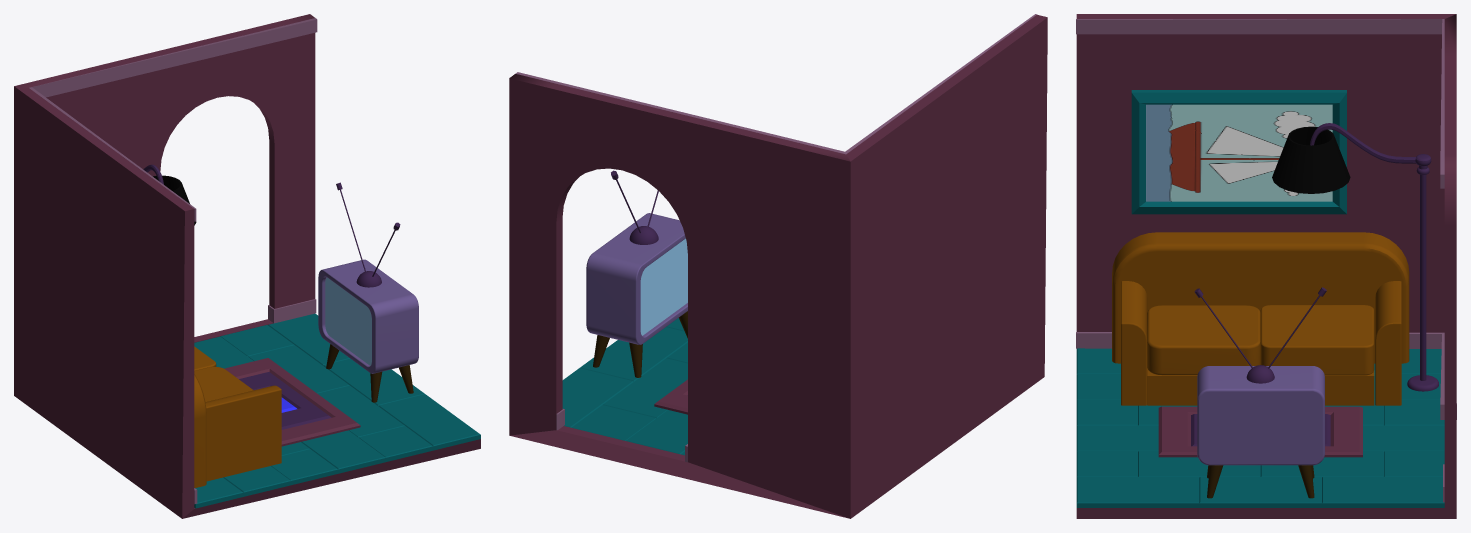
File: LivingRoom.obj
3 views of the same model, side by side, from view 1: azimuth 30°, elevation 25°; view 2: azimuth 150°, elevation 25°; view 3: azimuth 270°, elevation 25° (orthographic). The views are drawn at different scales.
Parts seen in each view (by area): view 1: LivingRoom, ArchwayWall, TvBox TvSet, Couch ArmRest01, WallBorder pCube2, Tile01 TileRow01, Rug pPlane1 Border, TvSet TvScreen, Tile01 TileRow03, TileRow02 Tile02, TileRow02 Tile03, TileRow01 Tile02 (+11 smaller); view 2: ArchwayWall, LivingRoom, TvBox TvSet, TvSet TvScreen, TileRow02 Tile03, TileRow01 Tile02, TileRow01 Tile03, TileRow02 Tile04, TileRow03 Tile03, WallBorder pCube2, Rug pPlane1 Border; view 3: LivingRoom, Couch CouchBack, picture FramedPicture, TvBox TvSet, FramedPicture pictureFrame, CouchCoushin02 Couch, Couch CouchCoushin01, WallBorder pCube2, ArchwayWall, Lamp LampShade, Tile01 TileRow01, TileRow01 Tile03 (+22 smaller).
Part boxes in pixels (box(x1,y1,x2,y2)): LivingRoom: box(14, 86, 480, 518); ArchwayWall: box(14, 14, 315, 342); TvBox TvSet: box(318, 259, 418, 373); Couch ArmRest01: box(205, 385, 281, 481); WallBorder pCube2: box(29, 18, 317, 221); Tile01 TileRow01: box(378, 394, 480, 450); Rug pPlane1 Border: box(224, 358, 360, 446); TvSet TvScreen: box(325, 277, 371, 365); Tile01 TileRow03: box(301, 430, 385, 473); TileRow02 Tile02: box(317, 385, 404, 437); TileRow02 Tile03: box(248, 345, 349, 393); TileRow01 Tile02: box(323, 358, 424, 405); ArchwayWall: box(509, 74, 850, 518); LivingRoom: box(846, 14, 1047, 518); TvBox TvSet: box(586, 213, 687, 344); TvSet TvScreen: box(640, 238, 687, 335); TileRow02 Tile03: box(603, 358, 687, 418); TileRow01 Tile02: box(580, 327, 687, 381); TileRow01 Tile03: box(562, 368, 633, 427); TileRow02 Tile04: box(571, 405, 655, 440); TileRow03 Tile03: box(626, 410, 687, 454); WallBorder pCube2: box(515, 14, 1036, 154); Rug pPlane1 Border: box(654, 379, 687, 414); LivingRoom: box(1076, 14, 1456, 518); Couch CouchBack: box(1112, 232, 1409, 363); picture FramedPicture: box(1146, 104, 1332, 201); TvBox TvSet: box(1197, 366, 1324, 465); FramedPicture pictureFrame: box(1131, 90, 1346, 214); CouchCoushin02 Couch: box(1260, 305, 1374, 375); Couch CouchCoushin01: box(1147, 305, 1260, 375); WallBorder pCube2: box(1076, 19, 1444, 188); ArchwayWall: box(1444, 14, 1456, 518); Lamp LampShade: box(1272, 126, 1350, 193); Tile01 TileRow01: box(1076, 477, 1199, 507); TileRow01 Tile03: box(1322, 477, 1444, 507).
Bounding box in the file's own units: 6.2 × 6.22 × 6.21.
11 materials, 1 textured.
